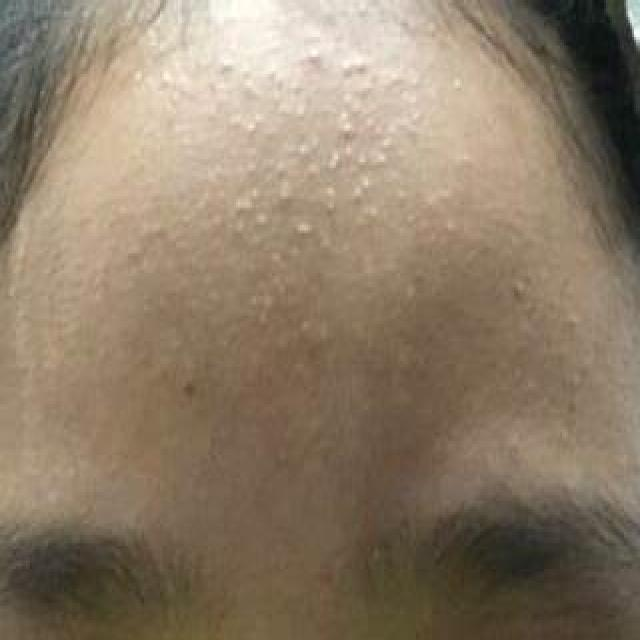fungal: (142, 42, 454, 374)
